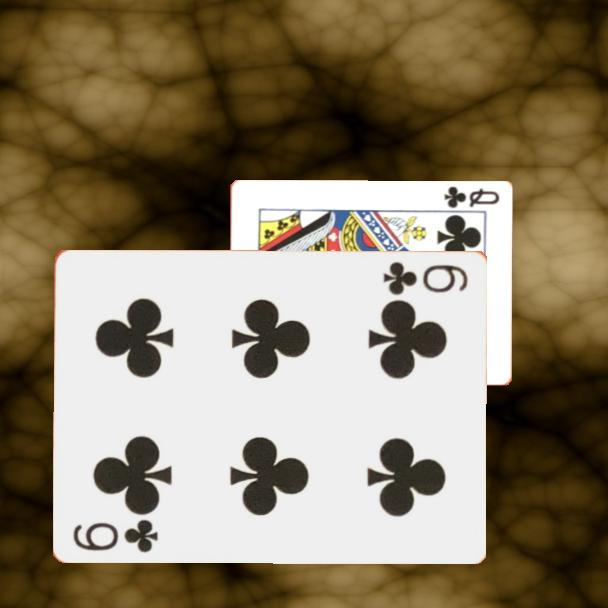c06: (380, 258, 471, 297), (70, 516, 161, 555)
c12: (441, 183, 502, 211)
